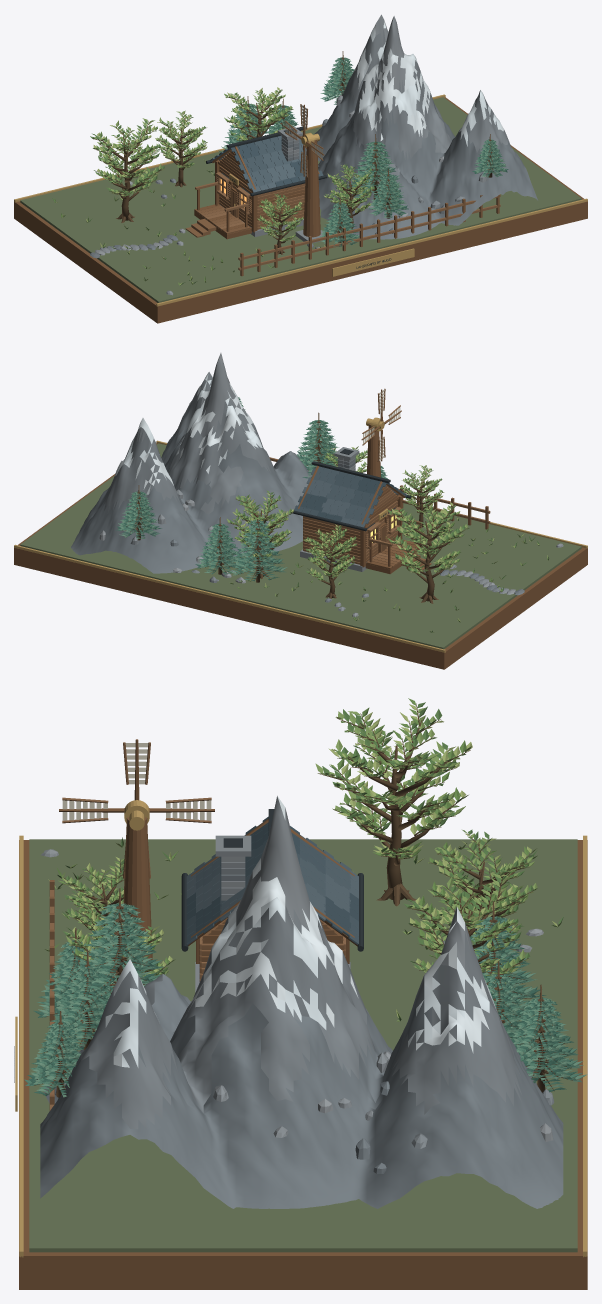
Rendered from hugo-landscape.glb.
3 views of the same model, one above another, from view 1: azimuth 30°, elevation 25°; view 2: azimuth 150°, elevation 25°; view 3: azimuth 270°, elevation 25° (orthographic). The views are drawn at different scales.
Parts seen in each view (by area): view 1: Meadow ground, Eroded rock ridges, Walnut plinth, Eroded rock ridges.001, Spruce needle sprays.002, Spruce needle sprays, Spruce needle sprays.001, Individual folded leaves.003, Individual folded leaves.002, Individual folded leaves, Individual folded leaves.001, Snow fields.001 (+16 smaller); view 2: Meadow ground, Eroded rock ridges, Walnut plinth, Eroded rock ridges.001, Spruce needle sprays, Spruce needle sprays.002, Spruce needle sprays.001, Individual folded leaves, Individual folded leaves.002, Individual folded leaves.003, Individual folded leaves.001, Brass tray inlay (+13 smaller); view 3: Meadow ground, Eroded rock ridges, Eroded rock ridges.001, Walnut plinth, Spruce needle sprays.002, Spruce needle sprays.001, Spruce needle sprays, Snow fields.001, Individual folded leaves.003, Individual folded leaves.002, Individual folded leaves, Individual folded leaves.001 (+18 smaller).
Boxes of the visible parts, x1,y1,x2,y2 form: Meadow ground: (20,97,581,302); Eroded rock ridges: (314,77,537,239); Walnut plinth: (14,97,587,323); Eroded rock ridges.001: (344,30,510,180); Spruce needle sprays.002: (221,57,506,243); Spruce needle sprays: (218,57,508,245); Spruce needle sprays.001: (224,57,504,246); Individual folded leaves.003: (90,90,374,240); Individual folded leaves.002: (93,87,374,240); Individual folded leaves: (92,90,373,241); Individual folded leaves.001: (94,89,372,240); Snow fields.001: (354,21,503,140); Meadow ground: (20,443,581,649); Eroded rock ridges: (71,404,312,573); Walnut plinth: (14,443,587,669); Eroded rock ridges.001: (103,372,297,523); Spruce needle sprays: (115,398,387,580); Spruce needle sprays.002: (118,397,385,578); Spruce needle sprays.001: (121,397,388,581); Individual folded leaves: (230,447,469,581); Individual folded leaves.002: (228,447,465,580); Individual folded leaves.003: (229,447,465,579); Individual folded leaves.001: (227,446,467,579); Brass tray inlay: (14,440,587,652); Meadow ground: (29,839,577,1252); Eroded rock ridges: (40,974,563,1208); Eroded rock ridges.001: (81,906,521,1129); Walnut plinth: (19,840,587,1289); Spruce needle sprays.002: (31,903,587,1097); Spruce needle sprays.001: (24,903,582,1094); Spruce needle sprays: (27,903,577,1095); Snow fields.001: (113,796,496,1066); Individual folded leaves.003: (63,702,533,995); Individual folded leaves.002: (62,704,533,982); Individual folded leaves: (58,698,537,982); Individual folded leaves.001: (65,708,537,983).
Bounding box in the file's own units: 5.81 × 2.4 × 3.38.
